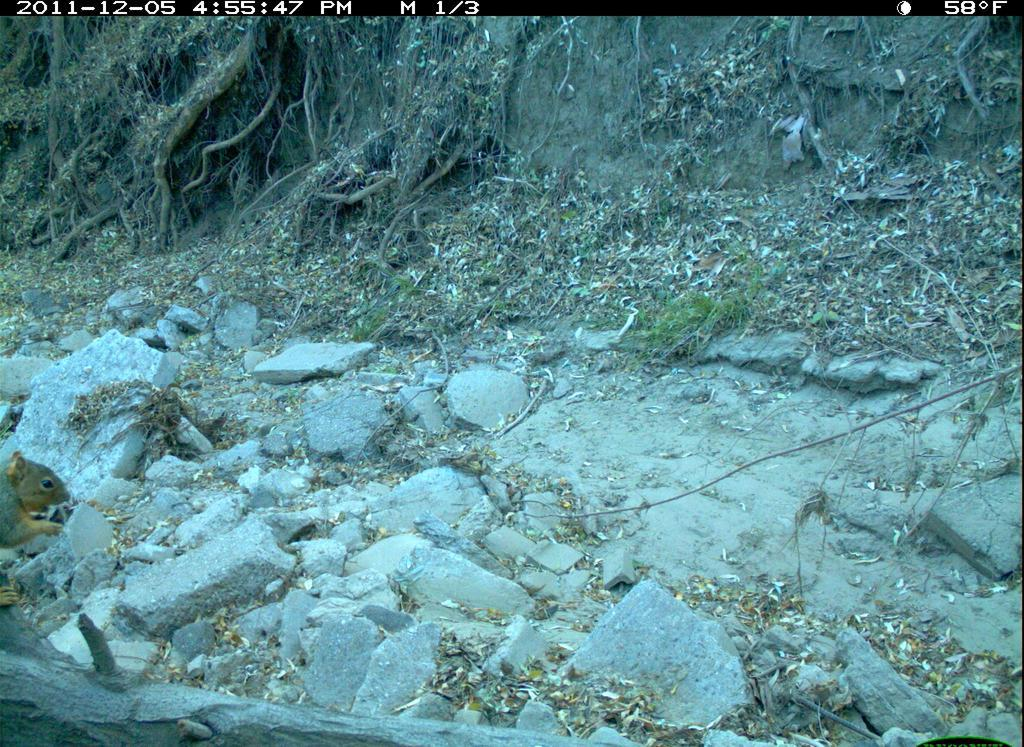squirrel: (2, 447, 80, 612)
